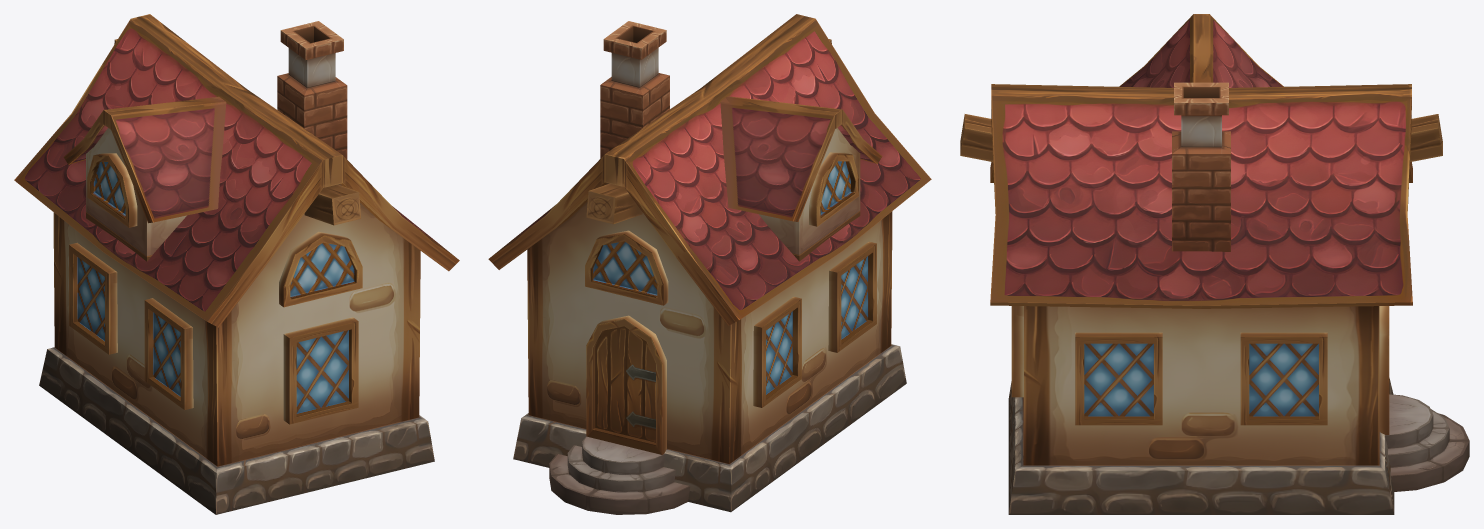
Rendered from Small_house.FBX.
3 views of the same model, side by side, from view 1: azimuth 30°, elevation 25°; view 2: azimuth 150°, elevation 25°; view 3: azimuth 270°, elevation 25° (orthographic). The views are drawn at different scales.
Parts seen in each view (by area): view 1: Small_house; view 2: Small_house; view 3: Small_house.
Part boxes in pixels (<box>): Small_house: <box>14,14,459,514</box>; Small_house: <box>488,14,931,514</box>; Small_house: <box>960,14,1469,514</box>.
Bounding box in the file's own units: 5.27 × 7.02 × 8.02.
